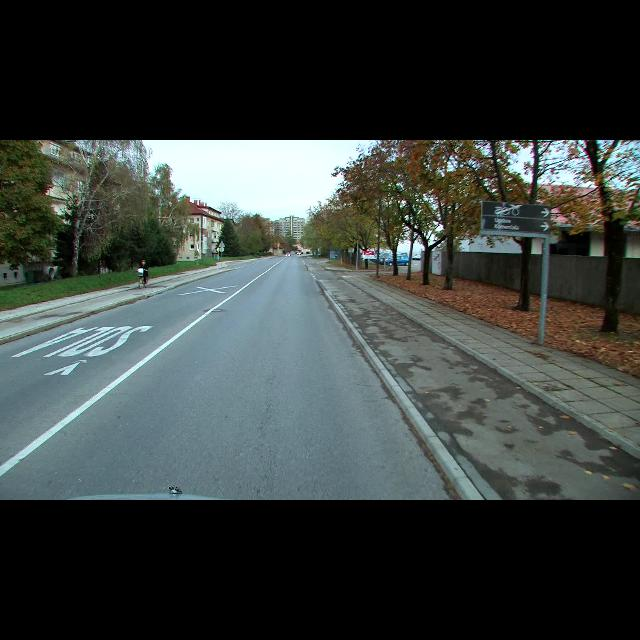Multi-inform: (480, 199, 550, 233)
